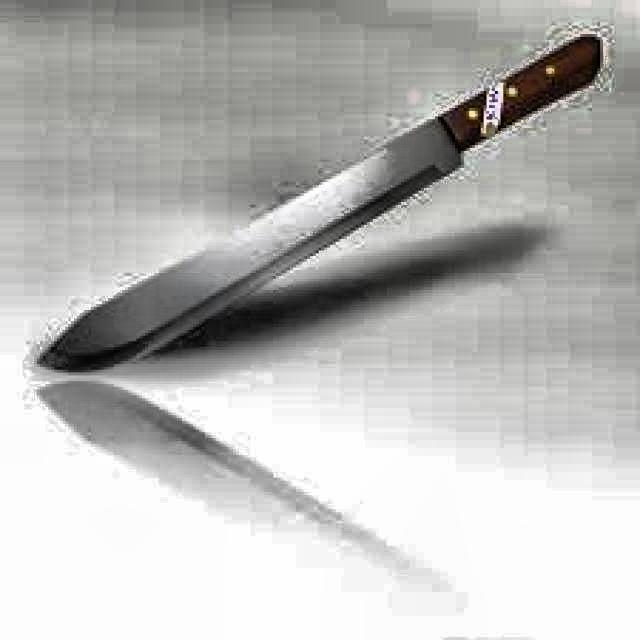knife: (32, 24, 611, 374)
